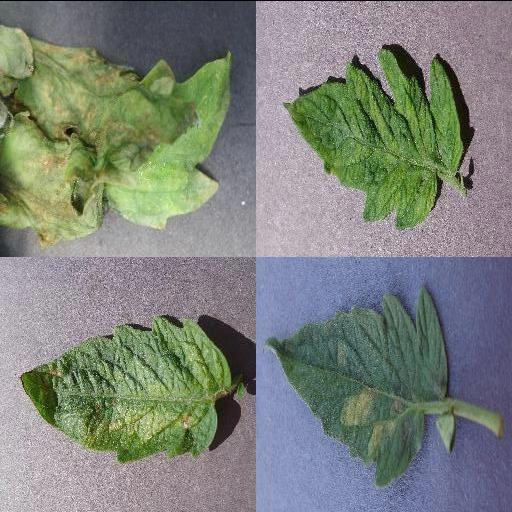Late Blight: (0, 25, 234, 249)
Leaf Mold: (265, 285, 447, 485)
Mosaic Virus: (284, 48, 468, 228)
Spider Mites: (19, 312, 235, 463)
